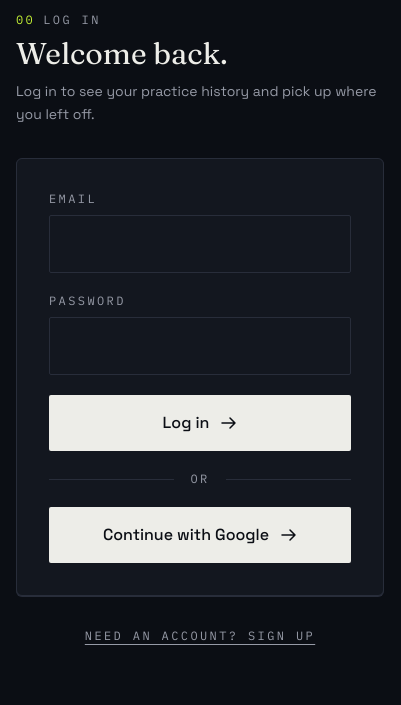
LoginForm › shows a friendly message (not a raw Firebase error) when sign-in fails
In the field labelled "Email": (200, 244) [49,214,351,273], type "person@example.com"
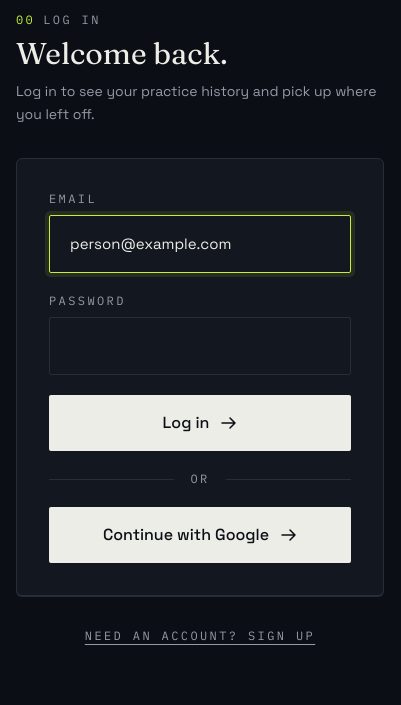
In the password field labelled "Password": (200, 346) [49,317,351,375], type "wrongpassword"
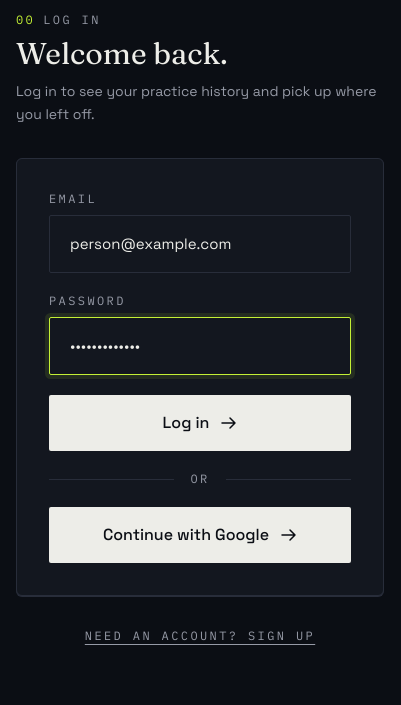
Click the button "Log in": click(200, 423) [49,395,351,451]
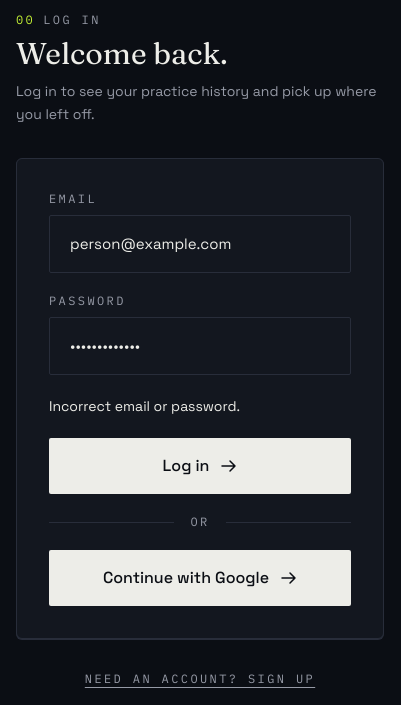
Check: the message shows "Incorrect email or password", box [49,397,240,415]
